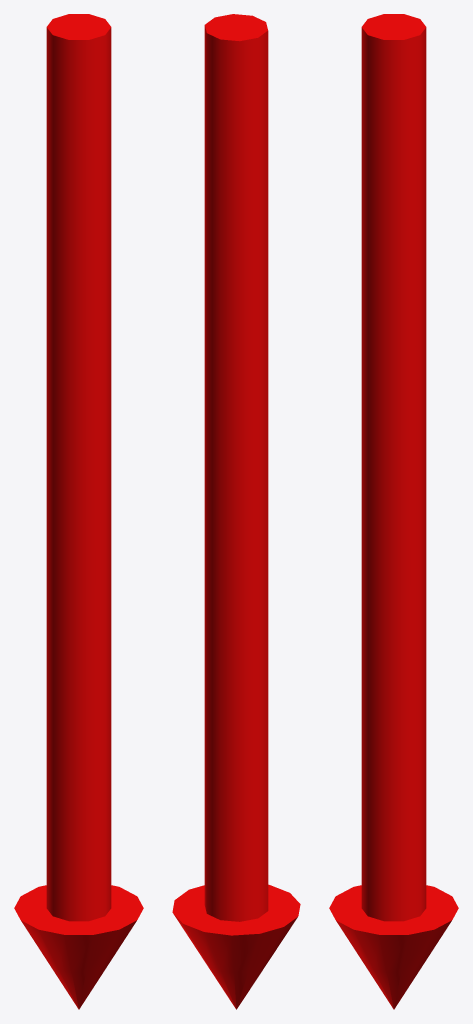
The model's file is arrow.obj.
3 renders of one model, left to right at view 1: azimuth 90°, elevation 25°; view 2: azimuth 150°, elevation 25°; view 3: azimuth 270°, elevation 25°, orthographic.
Parts seen in each view (by area): view 1: db_arrow__Geometry_0; view 2: db_arrow__Geometry_0; view 3: db_arrow__Geometry_0.
Boxes of the visible parts, x1,y1,x2,y2 form: db_arrow__Geometry_0: [14, 14, 143, 1009]; db_arrow__Geometry_0: [172, 14, 300, 1009]; db_arrow__Geometry_0: [329, 14, 458, 1009].
Bounding box in the file's own units: 19.5 × 167 × 20.
